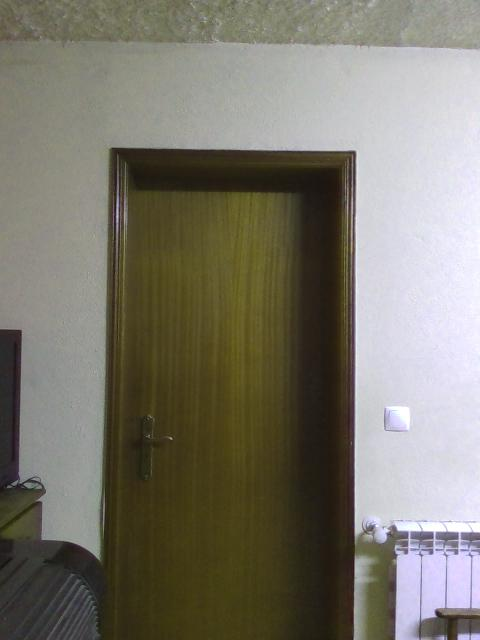closed_door: (104, 148, 356, 638)
